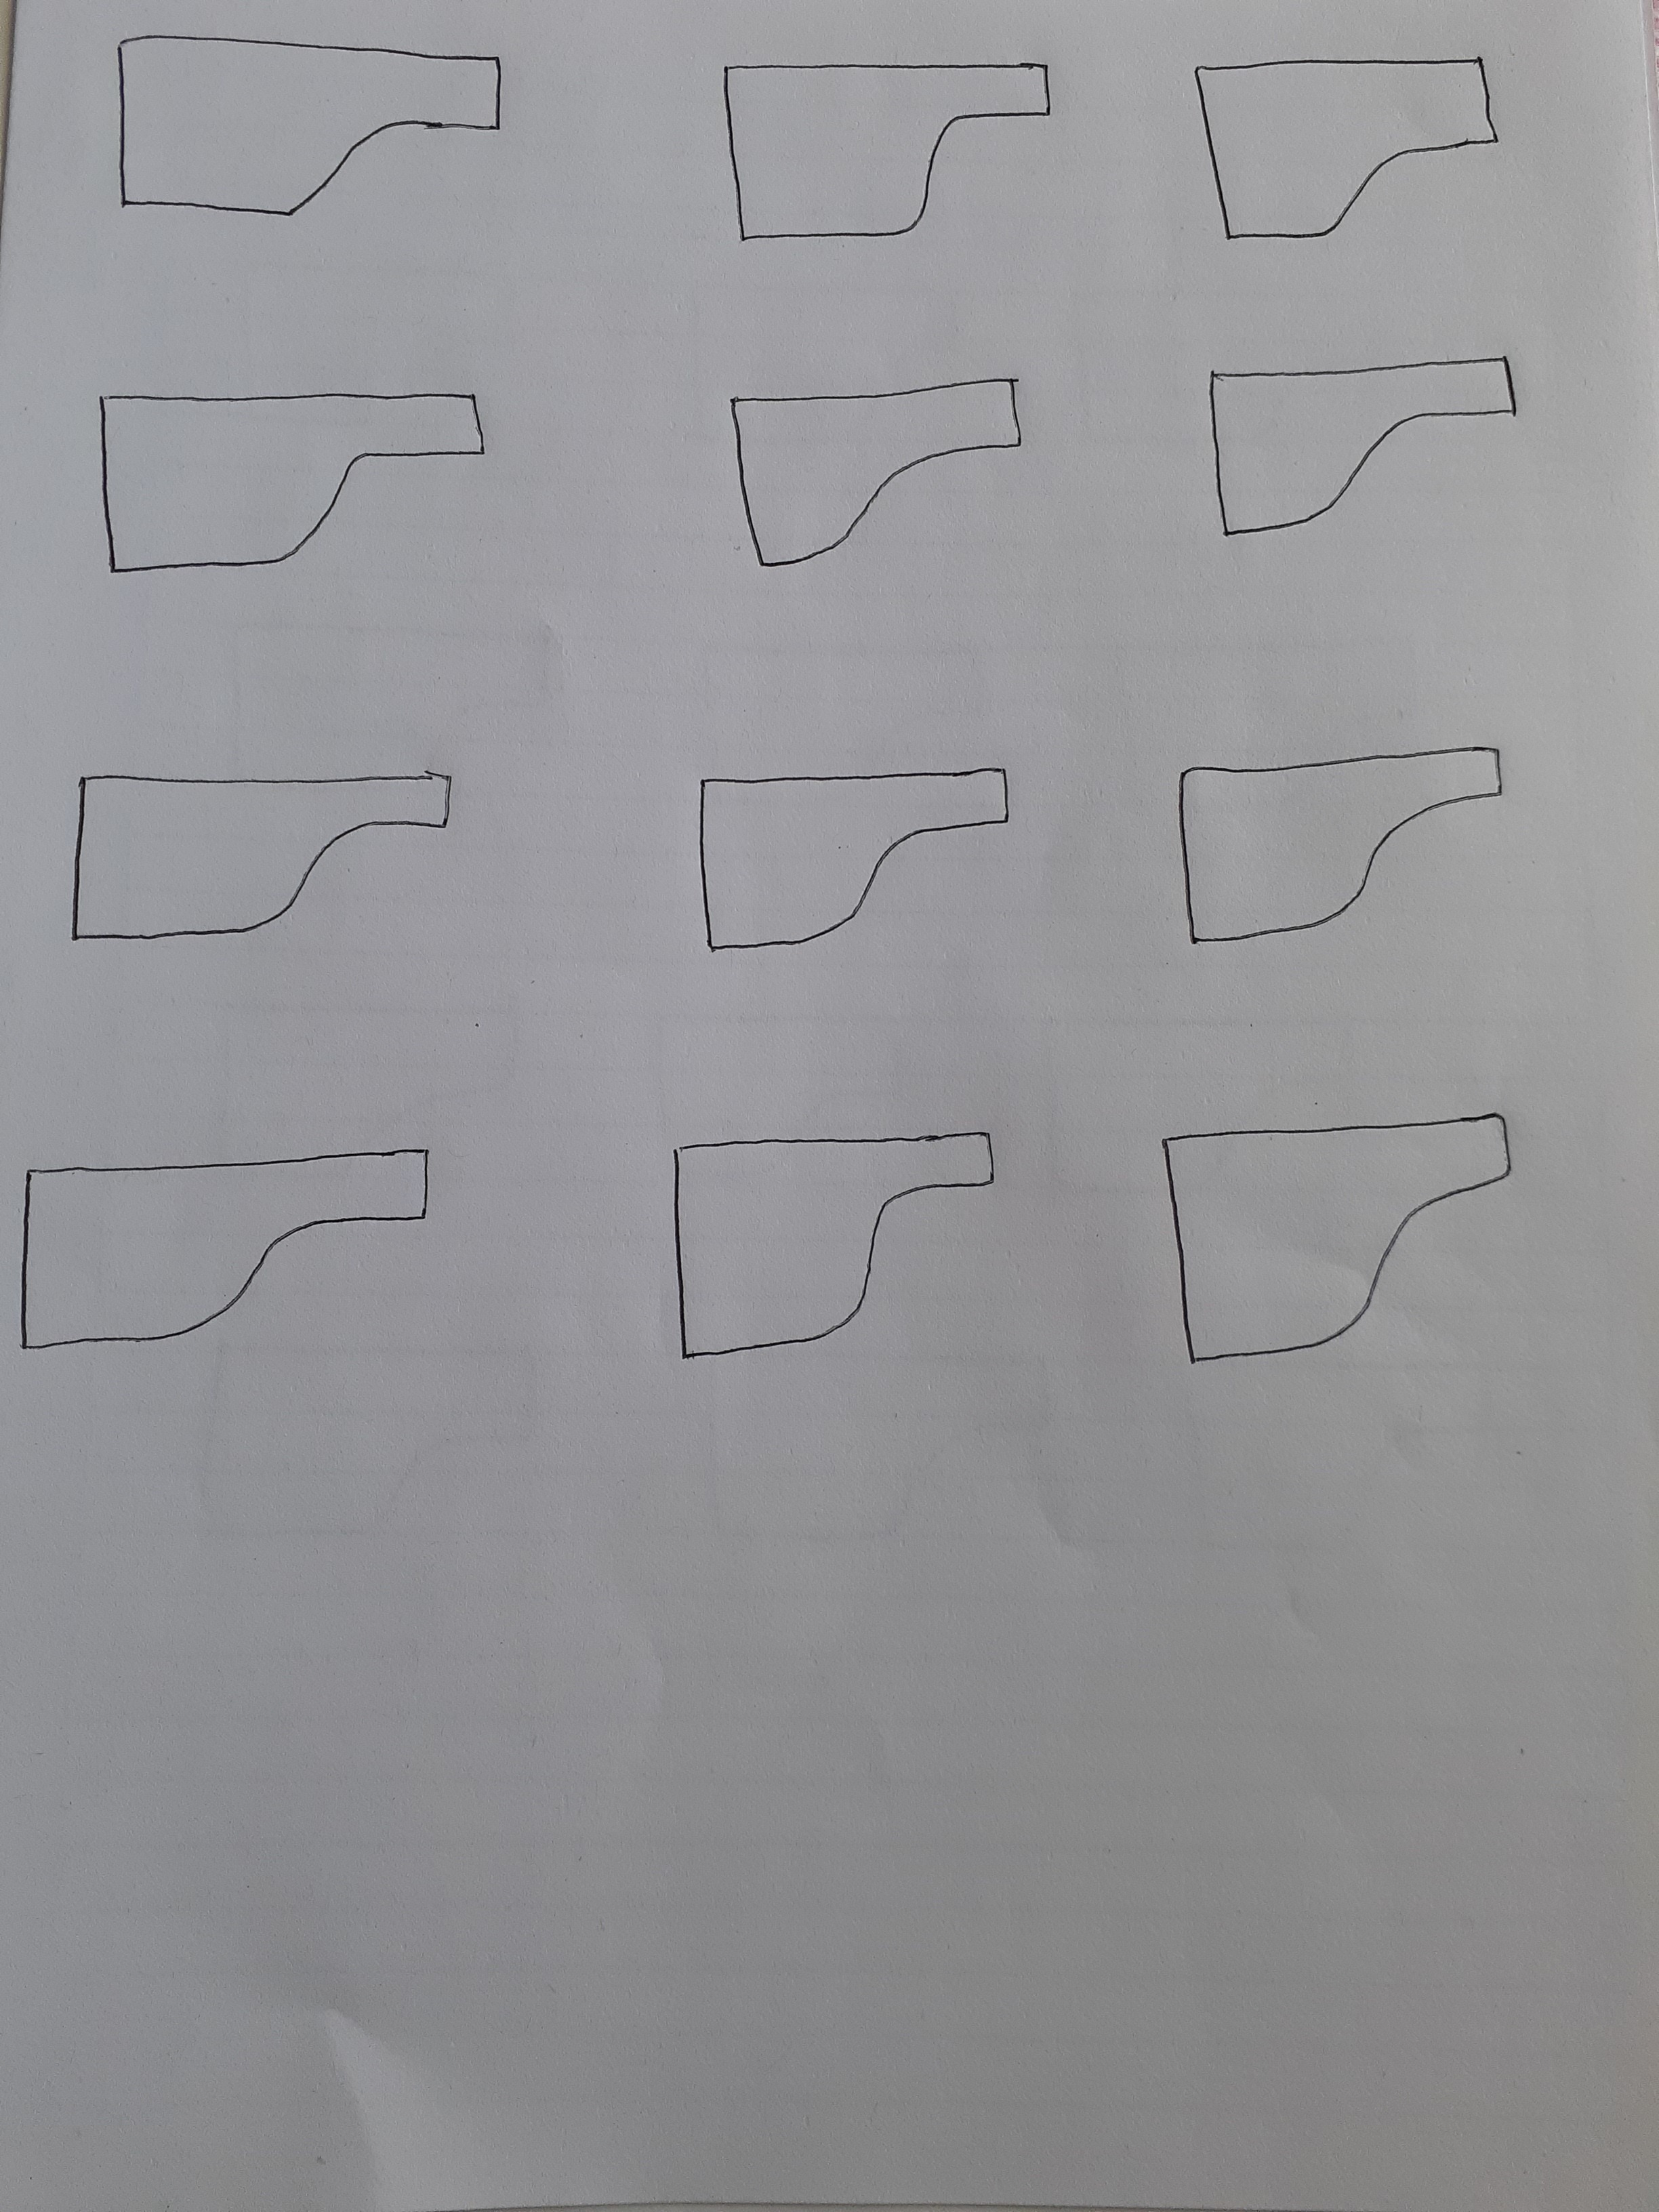print: (68, 336, 516, 618), (1150, 1089, 1532, 1407), (641, 1103, 1014, 1393), (35, 747, 472, 995), (92, 21, 556, 232), (14, 1143, 469, 1350), (1162, 329, 1539, 564), (1150, 726, 1528, 956), (671, 747, 1065, 960), (709, 31, 1072, 260), (1169, 28, 1513, 263), (725, 354, 1028, 578)
